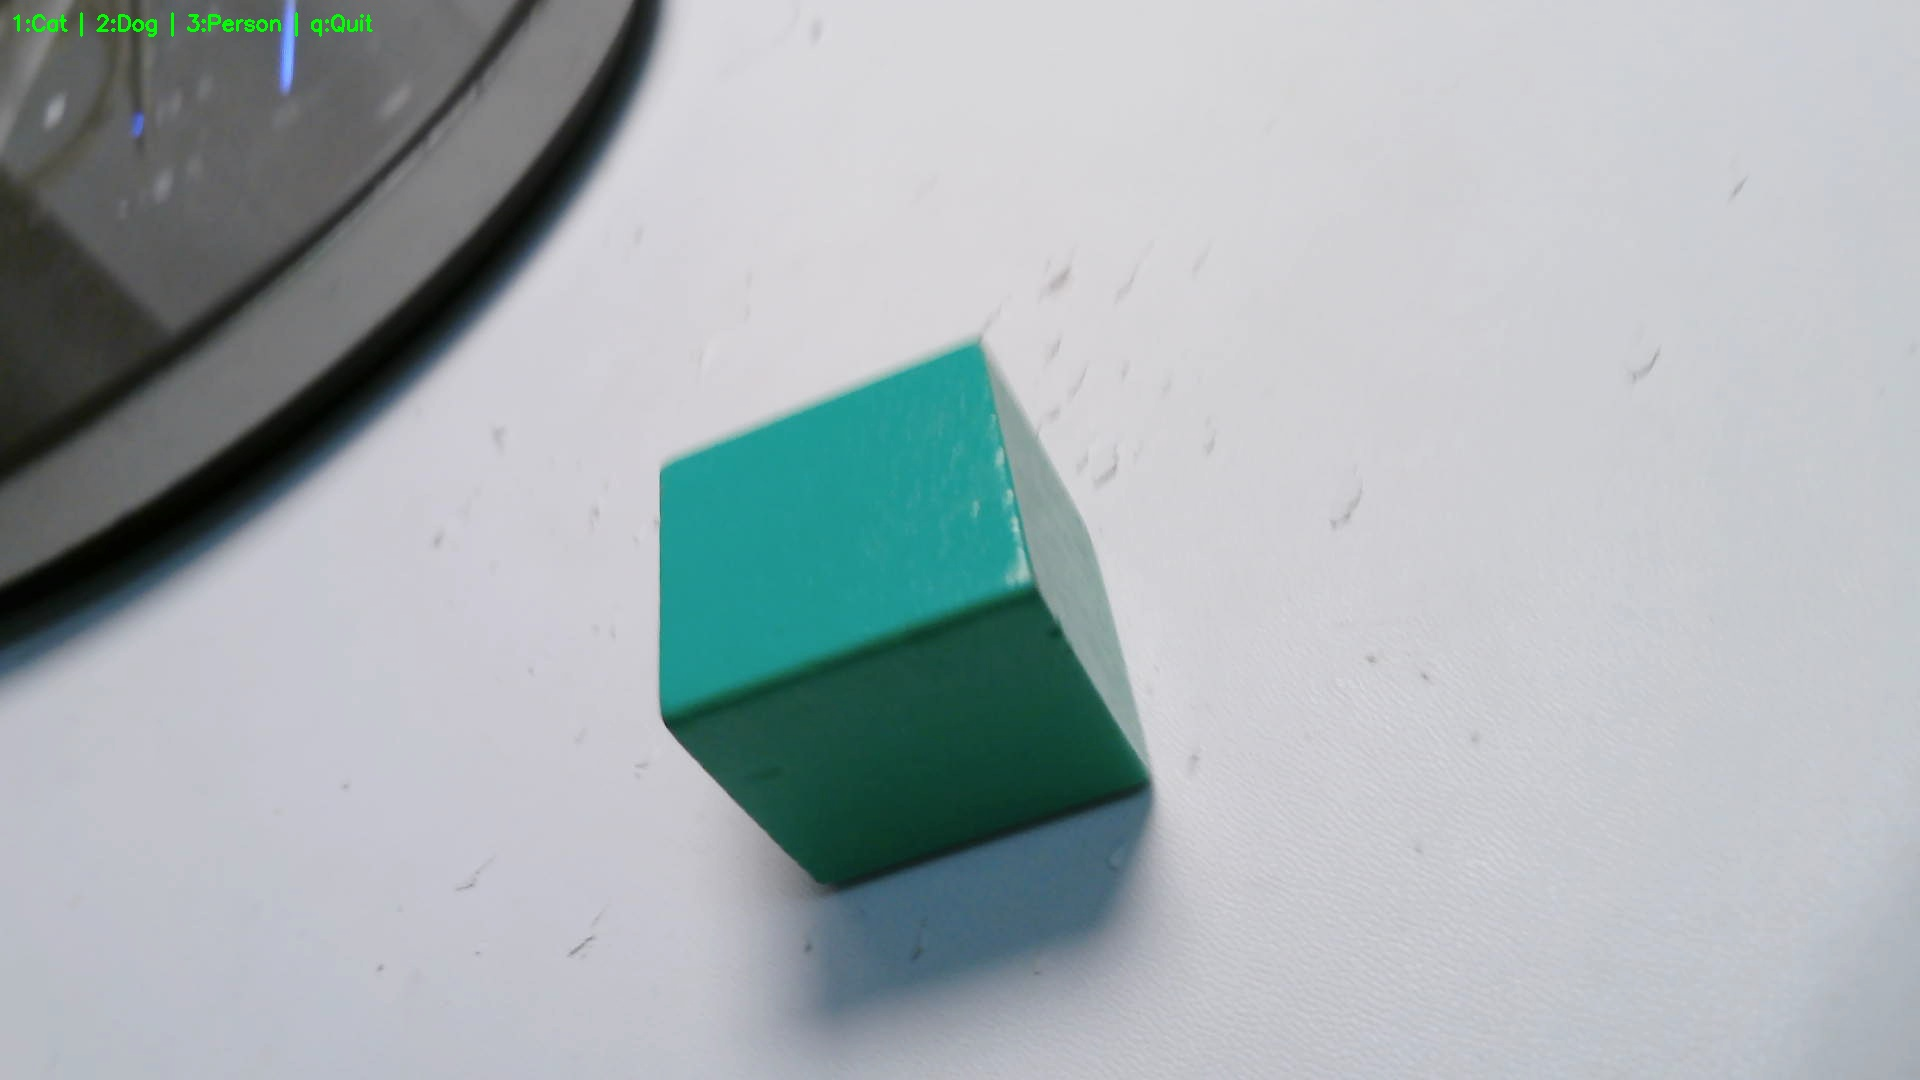green: (665, 344, 1160, 891)
